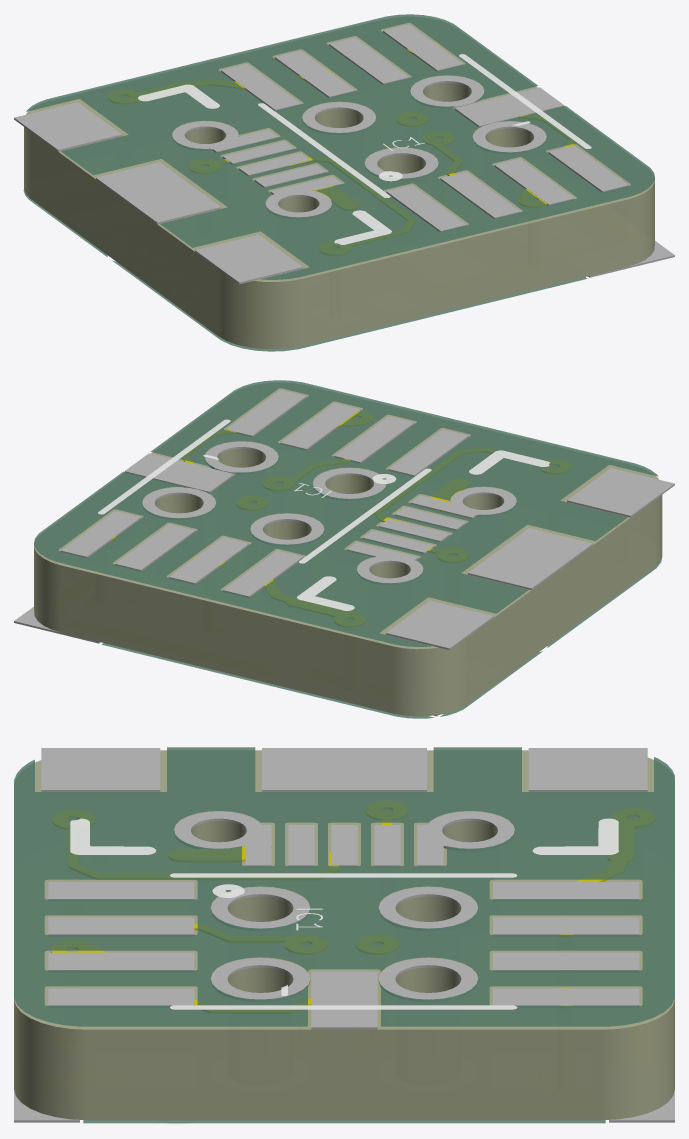
Rendered from ubadge-microbadge.glb.
3 views of the same model, one above another, from view 1: azimuth 30°, elevation 25°; view 2: azimuth 150°, elevation 25°; view 3: azimuth 270°, elevation 25° (orthographic). The views are drawn at different scales.
Parts seen in each view (by area): view 1: =>[0:1:1:9], =>[0:1:1:7], =>[0:1:1:2], =>[0:1:1:5]; view 2: =>[0:1:1:9], =>[0:1:1:7], =>[0:1:1:2], =>[0:1:1:5]; view 3: =>[0:1:1:9], =>[0:1:1:7], =>[0:1:1:2], =>[0:1:1:5].
Boxes of the visible parts, box(x1,y1,x2,y2) form: =>[0:1:1:9]: box(24, 17, 654, 349); =>[0:1:1:7]: box(23, 14, 654, 351); =>[0:1:1:2]: box(14, 24, 674, 284); =>[0:1:1:5]: box(138, 54, 591, 244); =>[0:1:1:9]: box(34, 383, 662, 716); =>[0:1:1:7]: box(34, 380, 662, 718); =>[0:1:1:2]: box(14, 390, 674, 716); =>[0:1:1:5]: box(98, 419, 550, 610); =>[0:1:1:9]: box(14, 750, 674, 1120); =>[0:1:1:7]: box(14, 747, 674, 1123); =>[0:1:1:2]: box(14, 748, 674, 1122); =>[0:1:1:5]: box(70, 818, 618, 1124).
Bounding box in the file's own units: 0.01 × 0.00166 × 0.01.
Materials: 4 (4 with a texture image).
